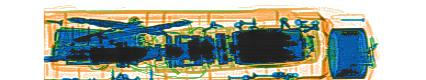battery: (50, 23, 143, 66)
